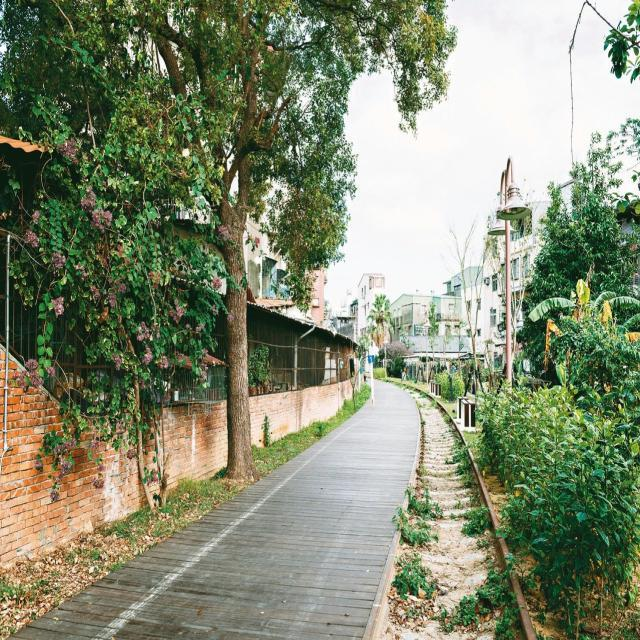rail-track: (386, 391, 521, 639)
